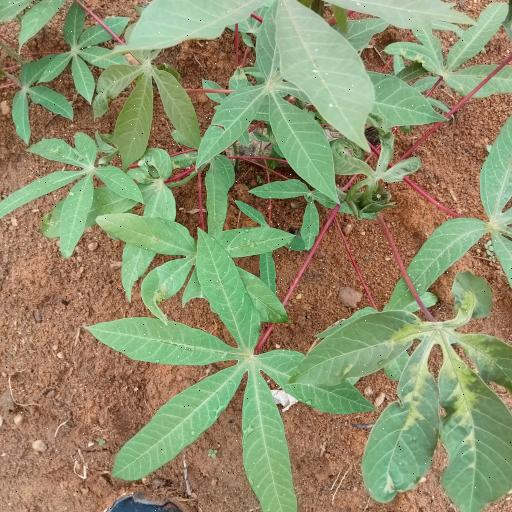Cassava_Mosaic: (89, 241, 358, 512), (317, 274, 512, 512)
